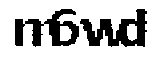6: (51, 5, 79, 51)
d: (121, 7, 148, 52)
m: (10, 19, 59, 54)
w: (79, 17, 124, 50)
